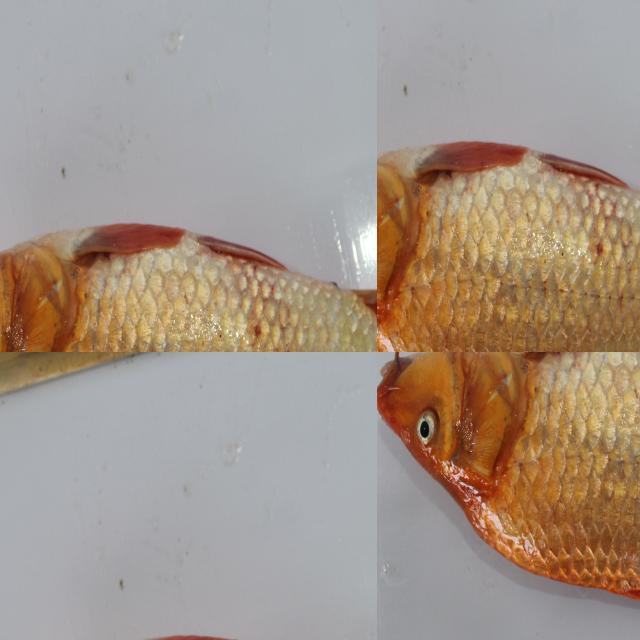fish: (377, 352, 640, 607), (8, 356, 142, 495)
